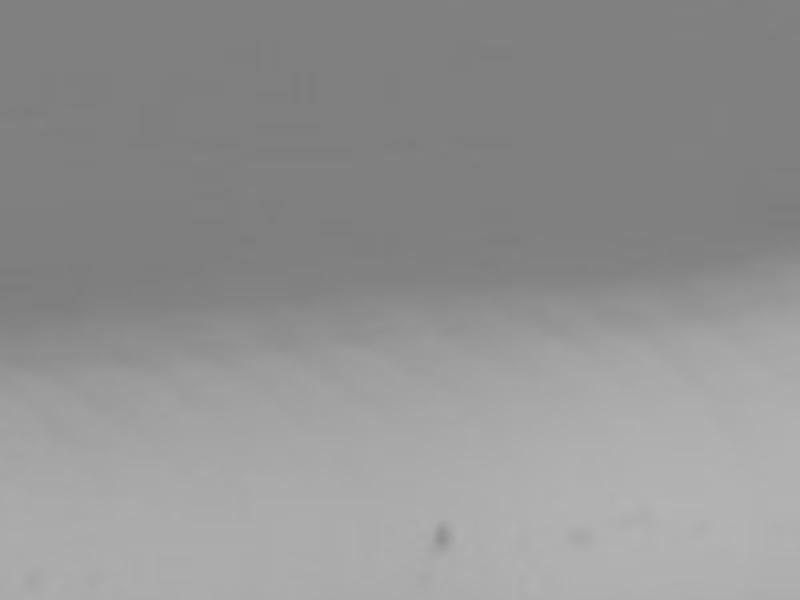defect: (433, 516, 456, 553), (560, 526, 596, 548)
